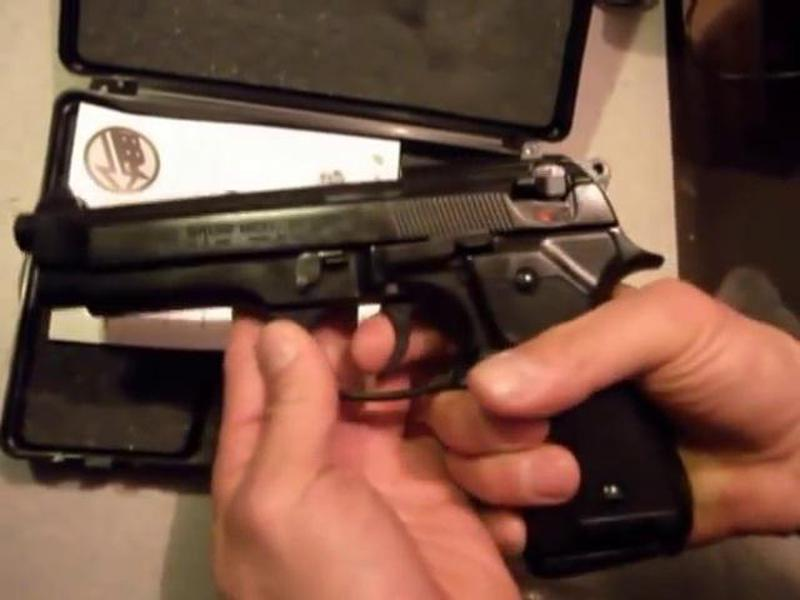Pistola: (16, 138, 685, 560)
